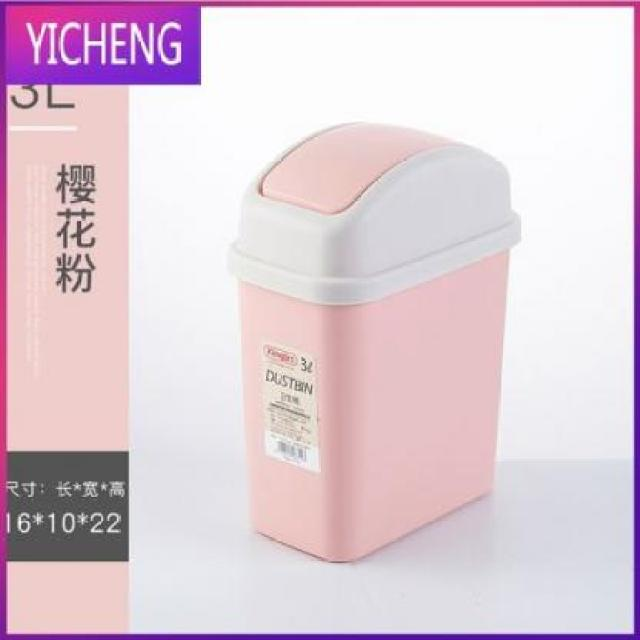dustbin: (222, 117, 526, 569)
